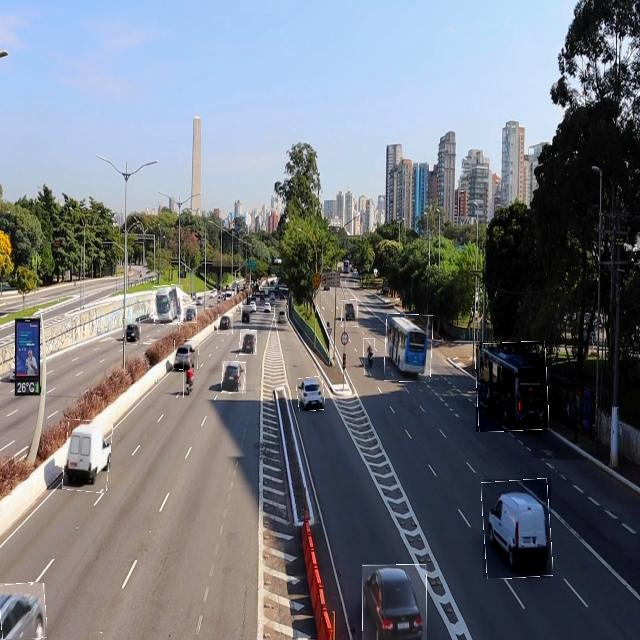Bus: (476, 342, 548, 432), (385, 313, 433, 382), (154, 285, 184, 325)
Car: (483, 479, 551, 578), (362, 564, 427, 640), (64, 420, 112, 492), (0, 583, 45, 640), (297, 377, 325, 410), (173, 340, 199, 370), (222, 362, 246, 394), (122, 318, 140, 345), (342, 300, 358, 327), (240, 330, 257, 355), (218, 314, 233, 334), (275, 305, 288, 327), (182, 306, 197, 323), (241, 305, 252, 326)
Motorcycle: (364, 338, 375, 375), (183, 361, 194, 398)
